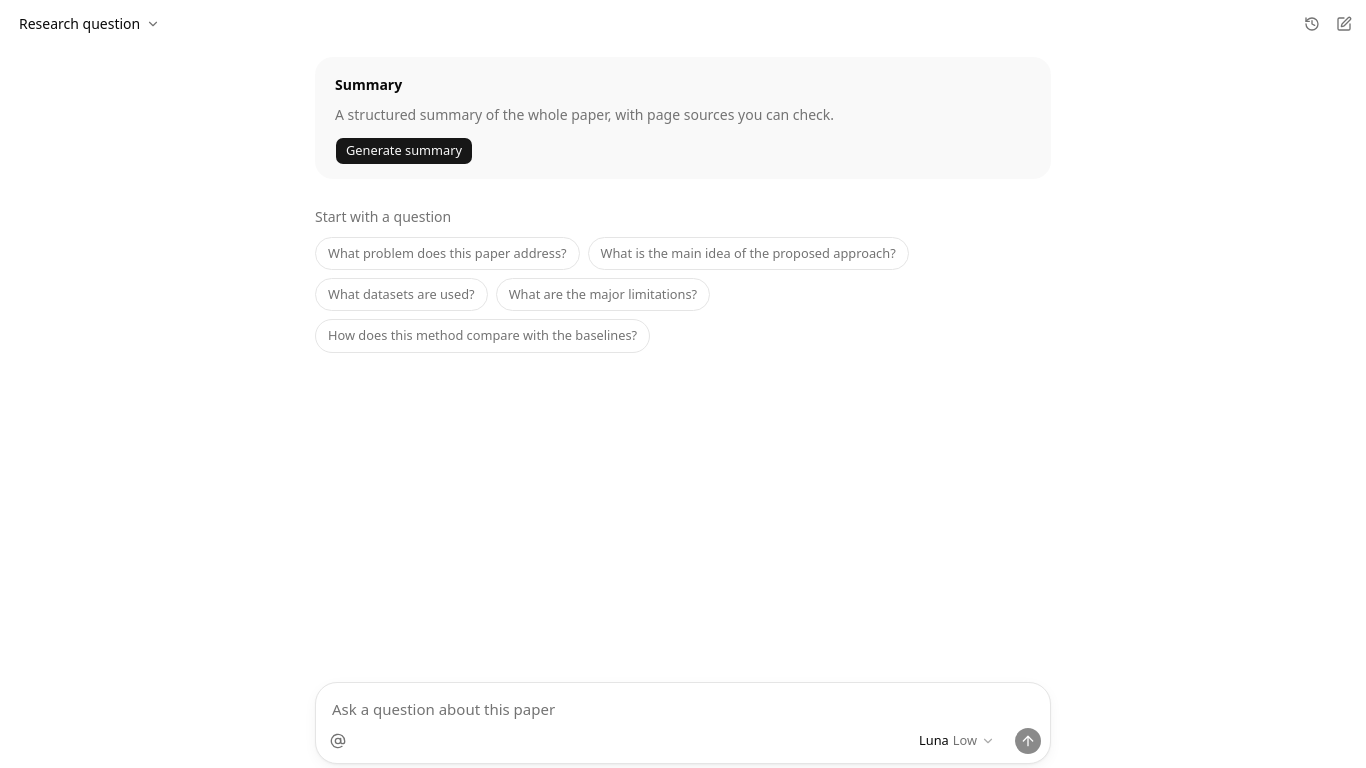
Scenario: Given a saved chat, When its title is pressed, Then the menu offers only Rename and Delete
Click the button "Research question".
click(90, 24)  # box [8,8,171,40]
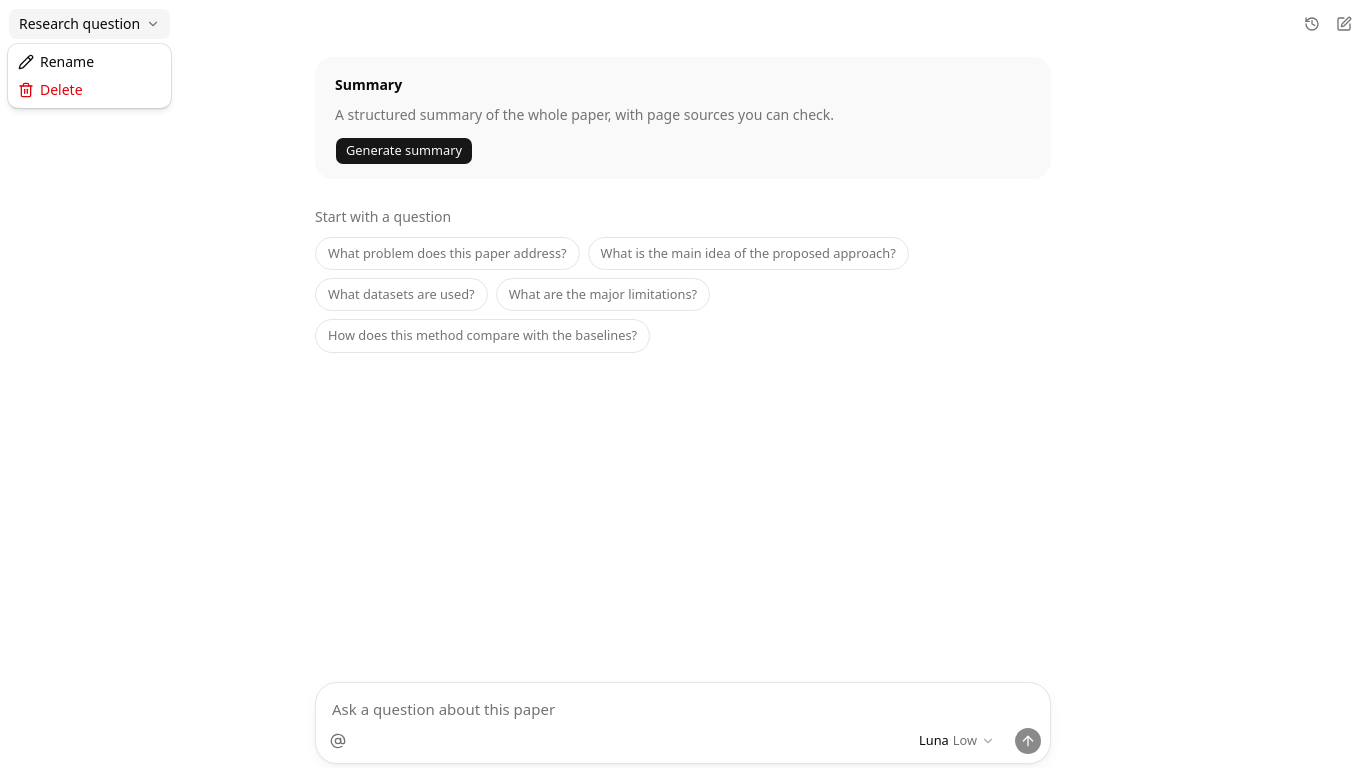
Result: the menu items read "Rename", "Delete", in this order at [18,52,94,71]; [18,80,83,99]
